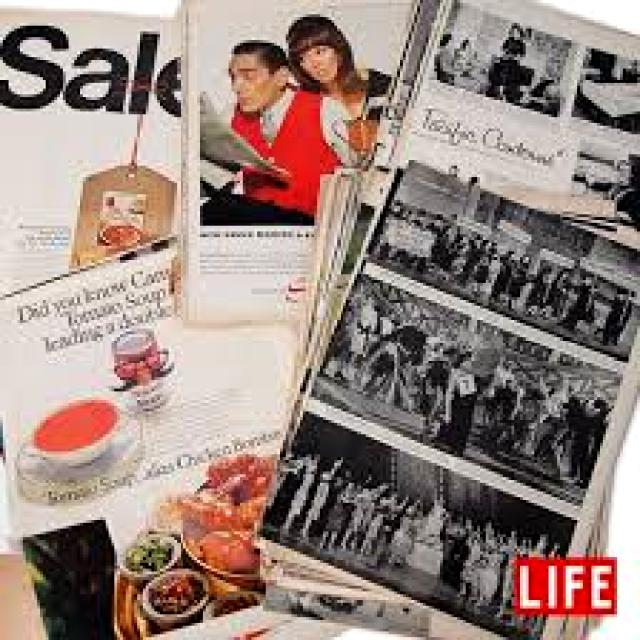Paper: (251, 162, 640, 640), (0, 233, 303, 548), (168, 0, 407, 317), (369, 0, 640, 235)
